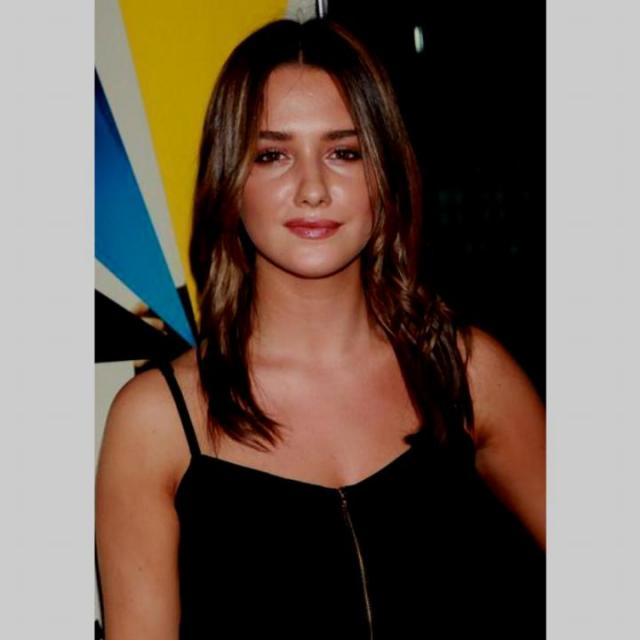live: (218, 52, 396, 284)
